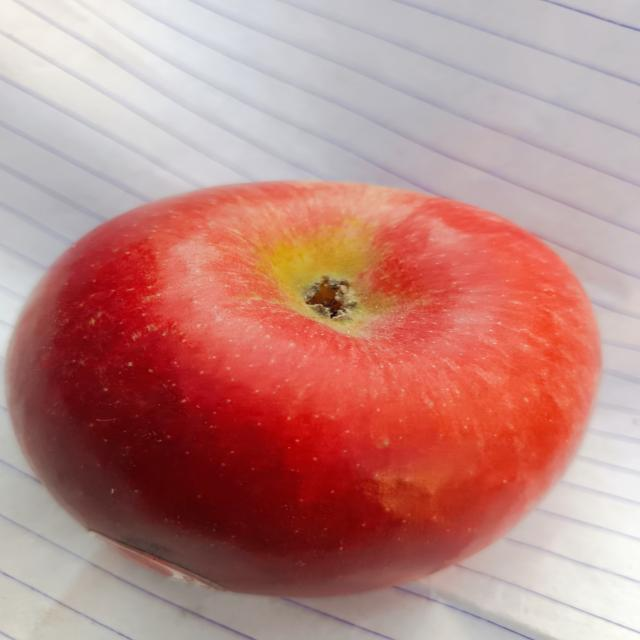Fresh Apple: (15, 185, 595, 605)
